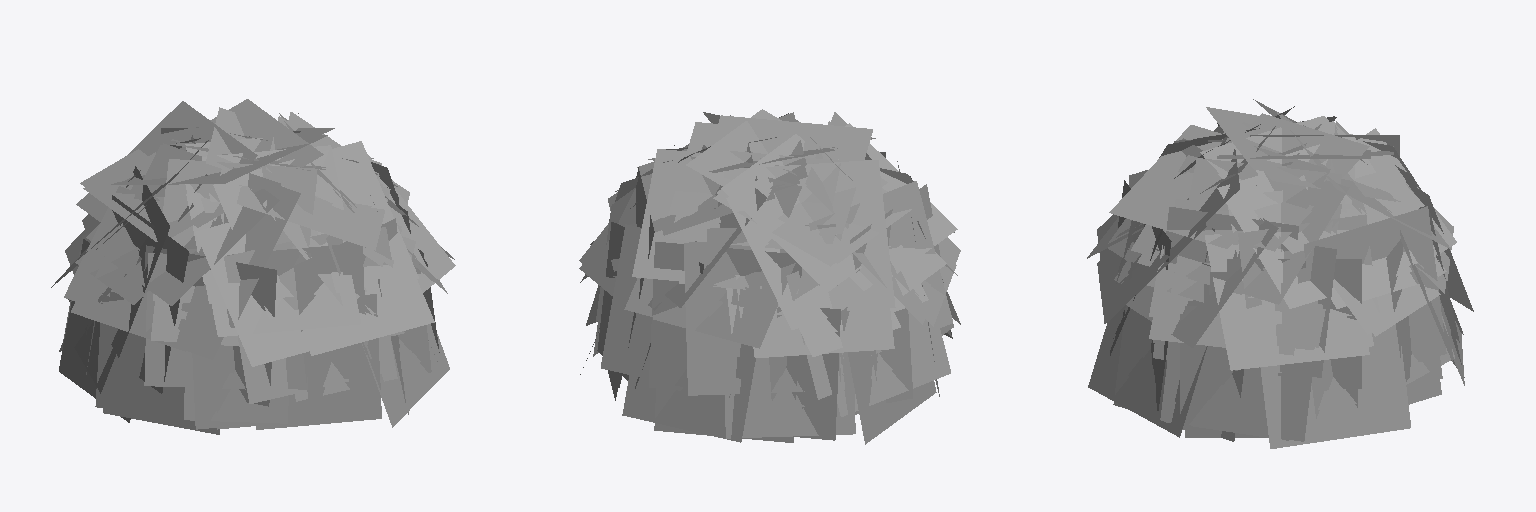
File: Bush.obj
3 renders of one model, left to right at view 1: azimuth 30°, elevation 25°; view 2: azimuth 150°, elevation 25°; view 3: azimuth 270°, elevation 25°, orthographic.
Visible parts, largest first — view 1: Bush_Plane.012; view 2: Bush_Plane.012; view 3: Bush_Plane.012.
Boxes of the visible parts, box(x1,y1,x2,y2) form: Bush_Plane.012: box(51, 99, 455, 434); Bush_Plane.012: box(579, 109, 960, 444); Bush_Plane.012: box(1087, 99, 1473, 448).
Bounding box in the file's own units: 1.09 × 0.6916 × 1.05.